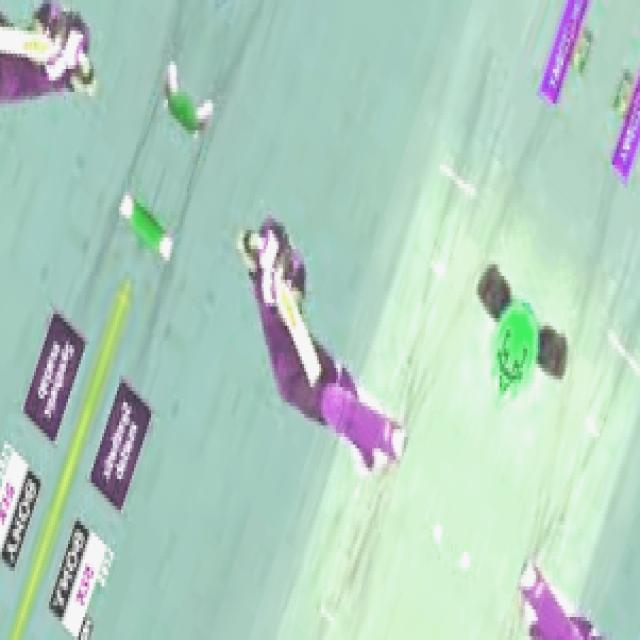toe: (304, 352, 326, 396)
